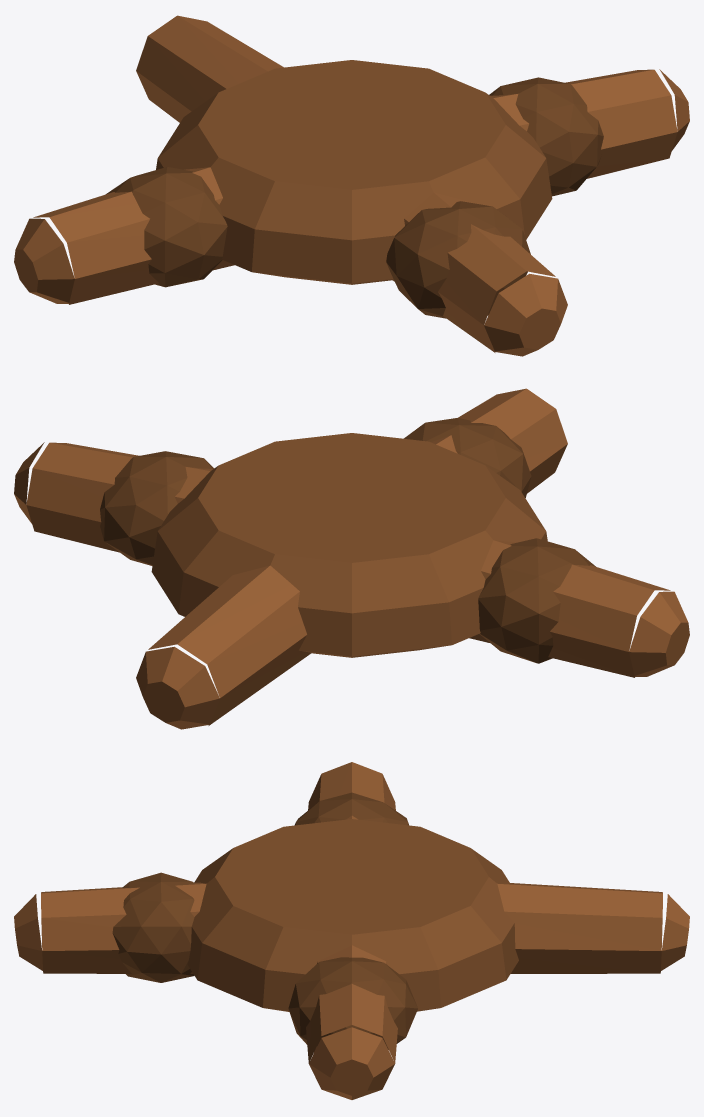
Rendered from KnottedRoot.glb.
The picture shows the model from 3 angles, top to bottom: view 1: azimuth 30°, elevation 25°; view 2: azimuth 150°, elevation 25°; view 3: azimuth 270°, elevation 25°; orthographic projection. The views are drawn at different scales.
Parts seen in each view (by area): view 1: KnottedRoot_KnottedBase, KnottedRoot_KnottedRoots, KnottedRoot_KnottedKnots; view 2: KnottedRoot_KnottedBase, KnottedRoot_KnottedRoots, KnottedRoot_KnottedKnots; view 3: KnottedRoot_KnottedBase, KnottedRoot_KnottedRoots, KnottedRoot_KnottedKnots.
Boxes of the visible parts, x1,y1,x2,y2 form: KnottedRoot_KnottedBase: (156,60,552,284); KnottedRoot_KnottedRoots: (14,15,689,356); KnottedRoot_KnottedKnots: (106,77,603,318); KnottedRoot_KnottedBase: (151,433,547,657); KnottedRoot_KnottedRoots: (14,388,689,729); KnottedRoot_KnottedKnots: (100,418,595,663); KnottedRoot_KnottedBase: (187,819,518,1011); KnottedRoot_KnottedRoots: (14,762,689,1099); KnottedRoot_KnottedKnots: (112,792,417,1052).
Bounding box in the file's own units: 3.7 × 0.6 × 3.7.
